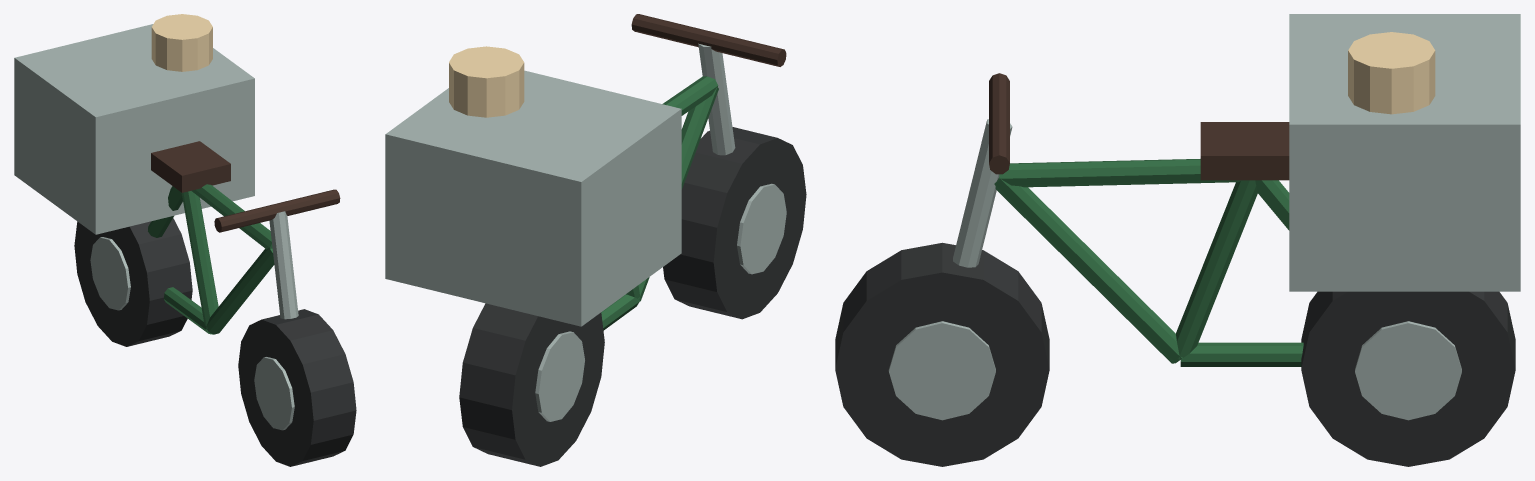
File: 013_vendor_bicycle.glb
3 renders of one model, left to right at view 1: azimuth 30°, elevation 25°; view 2: azimuth 150°, elevation 25°; view 3: azimuth 270°, elevation 25°, orthographic. The views are drawn at different scales.
Visible parts, largest first — view 1: Vendor bicycle; view 2: Vendor bicycle; view 3: Vendor bicycle.
Boxes of the visible parts, left/top/right/bottom form: Vendor bicycle: left=14, top=14, right=356, bottom=466; Vendor bicycle: left=385, top=14, right=806, bottom=466; Vendor bicycle: left=835, top=14, right=1520, bottom=466.
Size of the model in its own units: 0.78 by 1.42 by 2.04.
